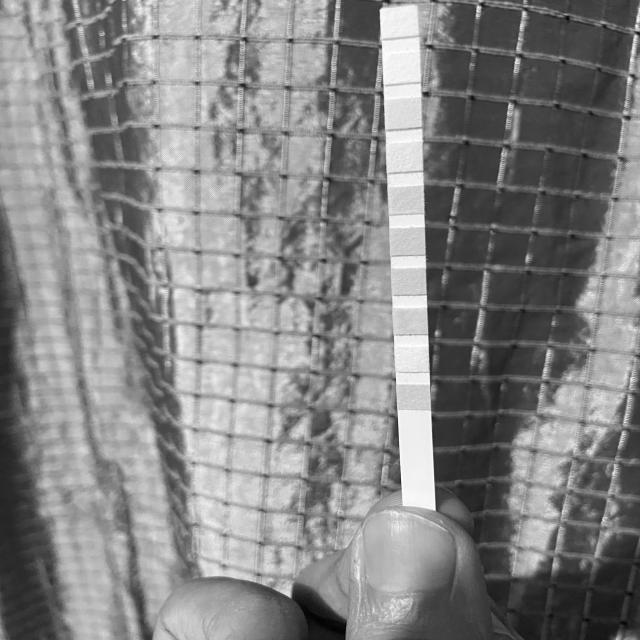Bilirubin: (397, 348, 427, 371)
Blood: (392, 230, 422, 253)
Glucose: (400, 386, 428, 407)
Ketone: (396, 310, 425, 333)
Leukocytes: (386, 10, 414, 36)
Nitrite: (386, 56, 417, 82)
Protein: (389, 146, 420, 170)
SpGravity: (394, 270, 424, 294)
Urobilinogen: (388, 101, 418, 127)
background: (0, 0, 640, 640)
pH: (391, 188, 421, 213)
strip: (380, 7, 435, 500)
